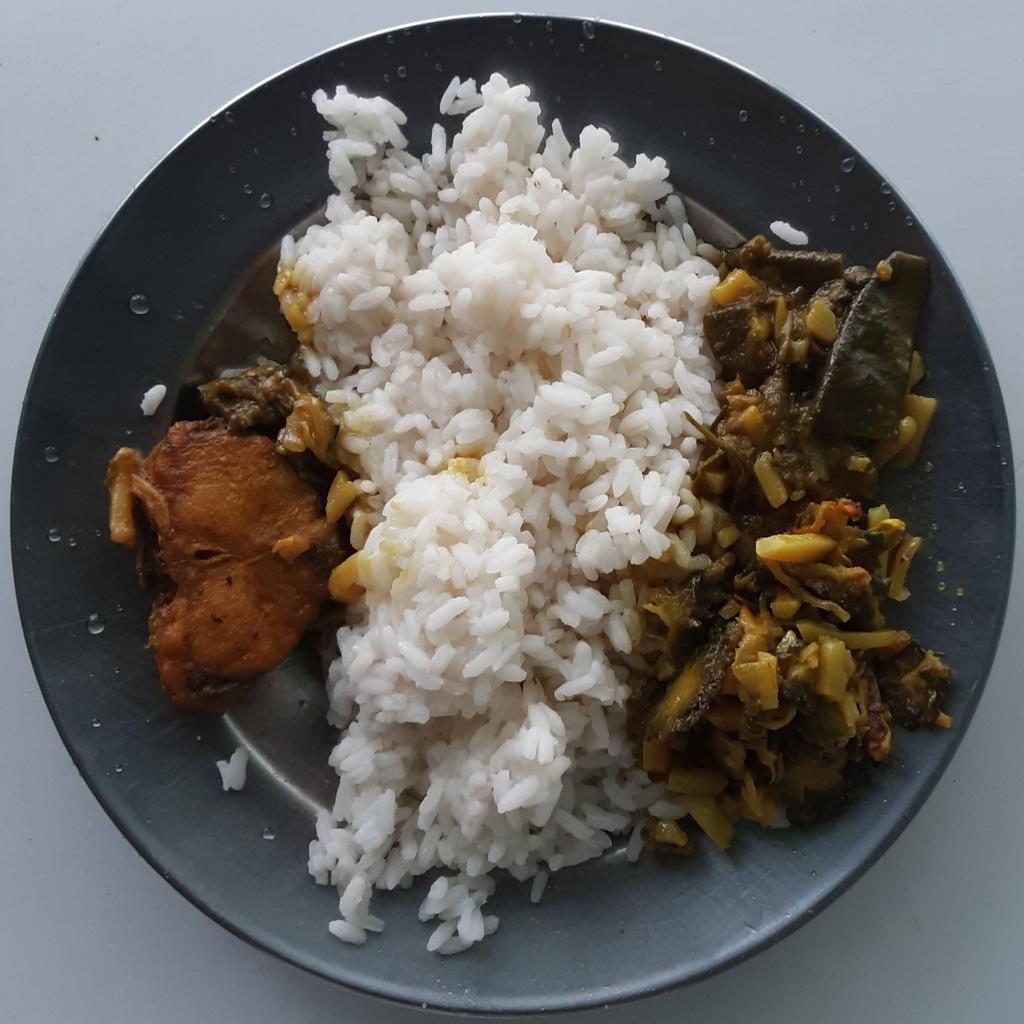fish: (103, 356, 353, 707)
korola-vaji: (632, 557, 780, 755), (785, 664, 889, 823), (878, 635, 953, 729)
potato: (635, 505, 918, 851)
rice: (275, 70, 720, 950)
shim: (698, 235, 933, 553)
